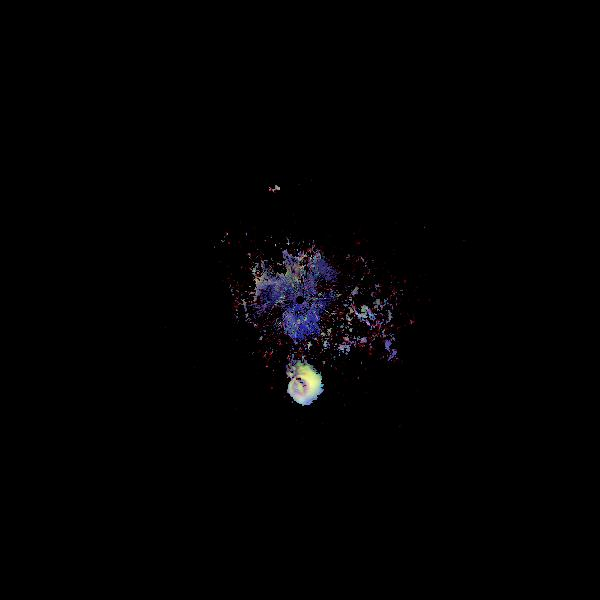roost: (277, 358, 331, 412), (269, 183, 281, 195)
